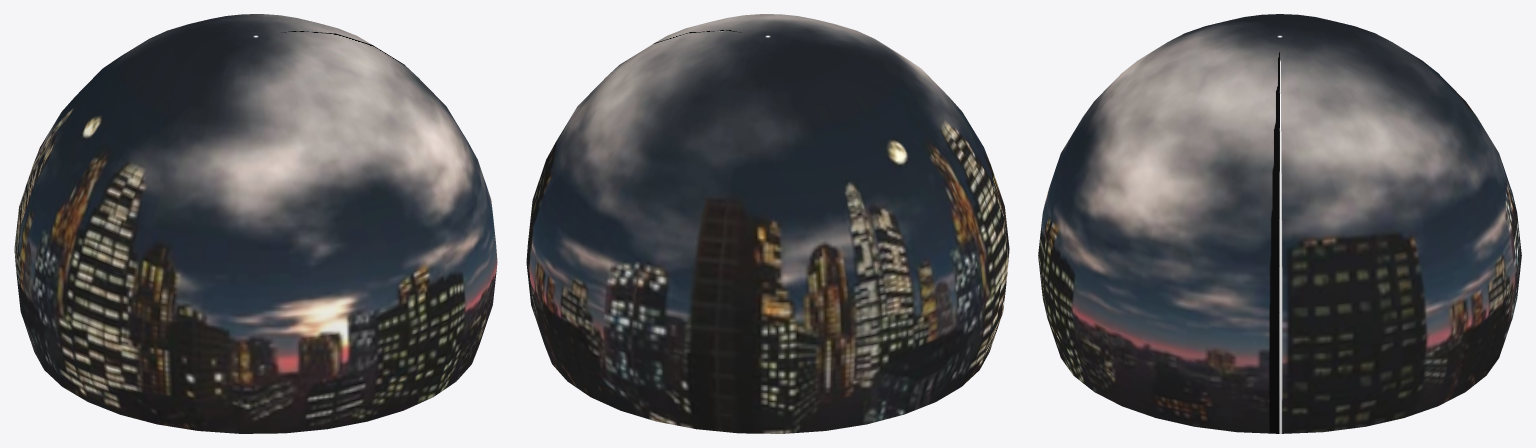
File: level.glb
The picture shows the model from 3 angles, left to right: view 1: azimuth 30°, elevation 25°; view 2: azimuth 150°, elevation 25°; view 3: azimuth 270°, elevation 25°; orthographic projection.
Visible parts, largest first — view 1: Sphere; view 2: Sphere; view 3: Sphere.
Part boxes in pixels (box(x1,y1,x2,y2)): Sphere: box(14, 14, 497, 433); Sphere: box(526, 14, 1009, 433); Sphere: box(1038, 14, 1521, 433).
Bounding box in the file's own units: 197 × 136 × 197.
Materials: 11 (11 with a texture image).
